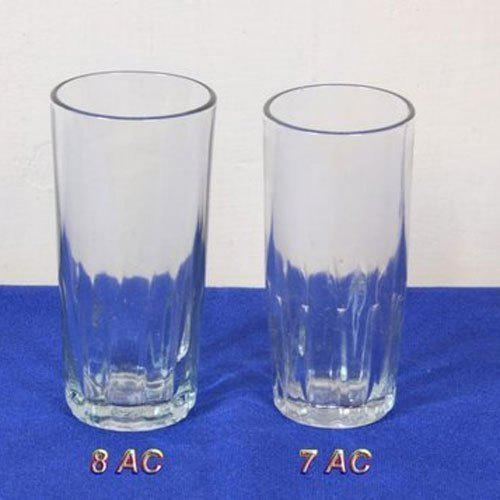glass-normal: (49, 70, 218, 433), (258, 81, 418, 431)
